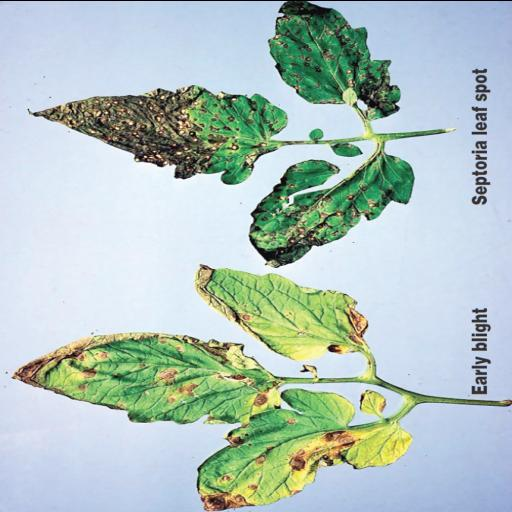disease_tomato: (194, 387, 417, 512), (25, 84, 287, 184), (10, 332, 280, 422), (246, 150, 416, 266), (195, 260, 368, 360), (265, 0, 400, 118)
